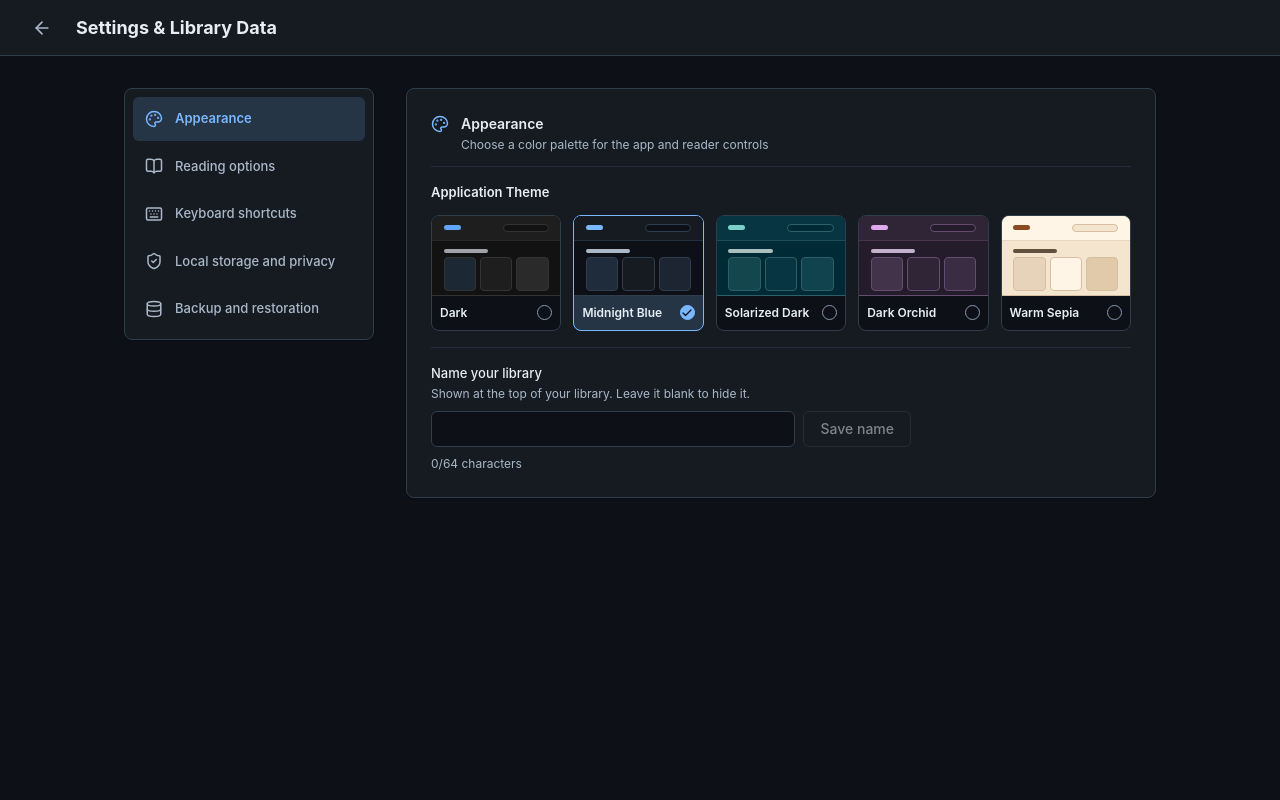
Test case: SettingsView master-detail browser-style navigation › switches to Reading options section and displays only its settings
Click the tab "Reading options": (249, 166) [133,144,365,188]
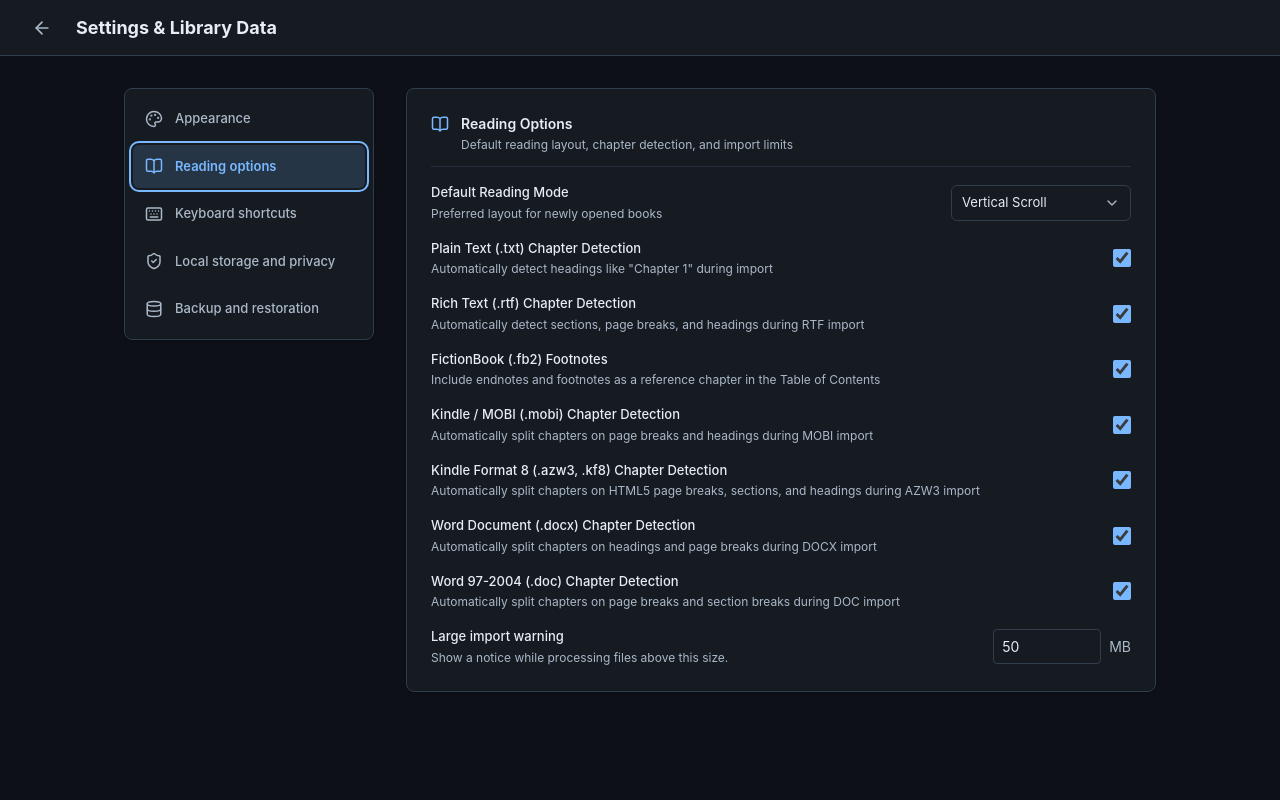
Now the text "Default Reading Mode" is shown, box [431,184,569,200]
Now the checkbox named "Plain Text Chapter Detection" is shown, box [1113,249,1131,267]
Now the number field named "Large import warning size in megabytes" is shown, box [993,629,1101,664]
